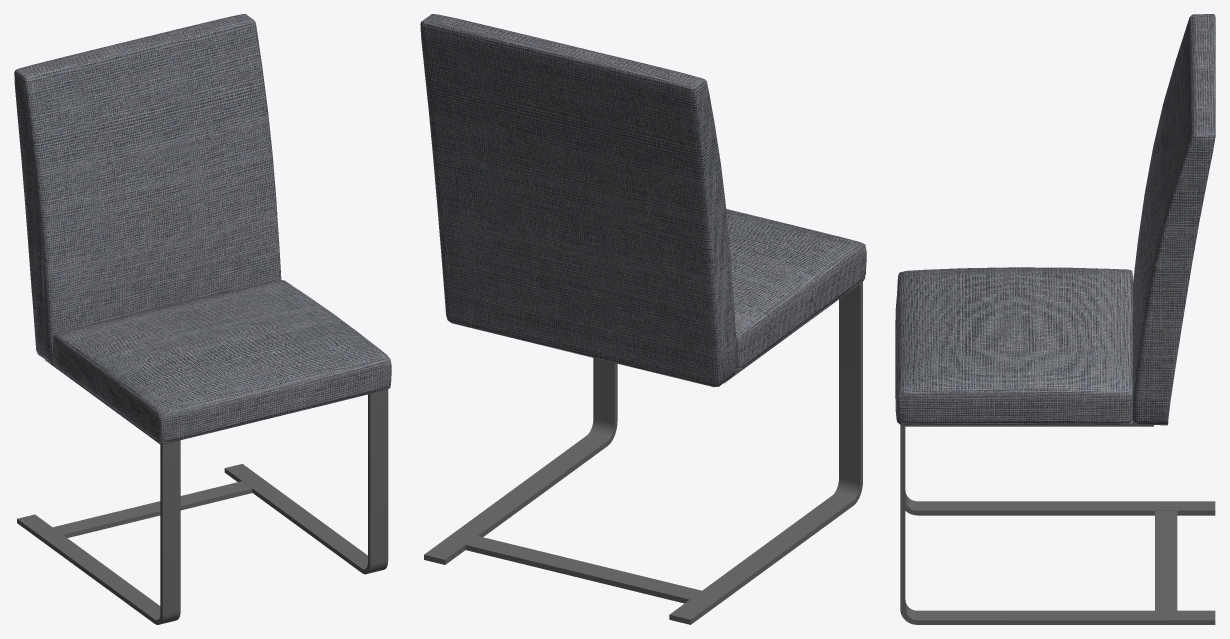
File: CGT_Chair_015.glb
3 renders of one model, left to right at view 1: azimuth 30°, elevation 25°; view 2: azimuth 150°, elevation 25°; view 3: azimuth 270°, elevation 25°, orthographic. The views are drawn at different scales.
Parts seen in each view (by area): view 1: CGT_Chair_015; view 2: CGT_Chair_015; view 3: CGT_Chair_015.
Part boxes in pixels (bbox=[...]): CGT_Chair_015: bbox=[14, 14, 391, 624]; CGT_Chair_015: bbox=[420, 14, 866, 624]; CGT_Chair_015: bbox=[895, 14, 1215, 624].
Bounding box in the file's own units: 0.4663 × 0.8659 × 0.5102.
2 materials, 1 textured.
